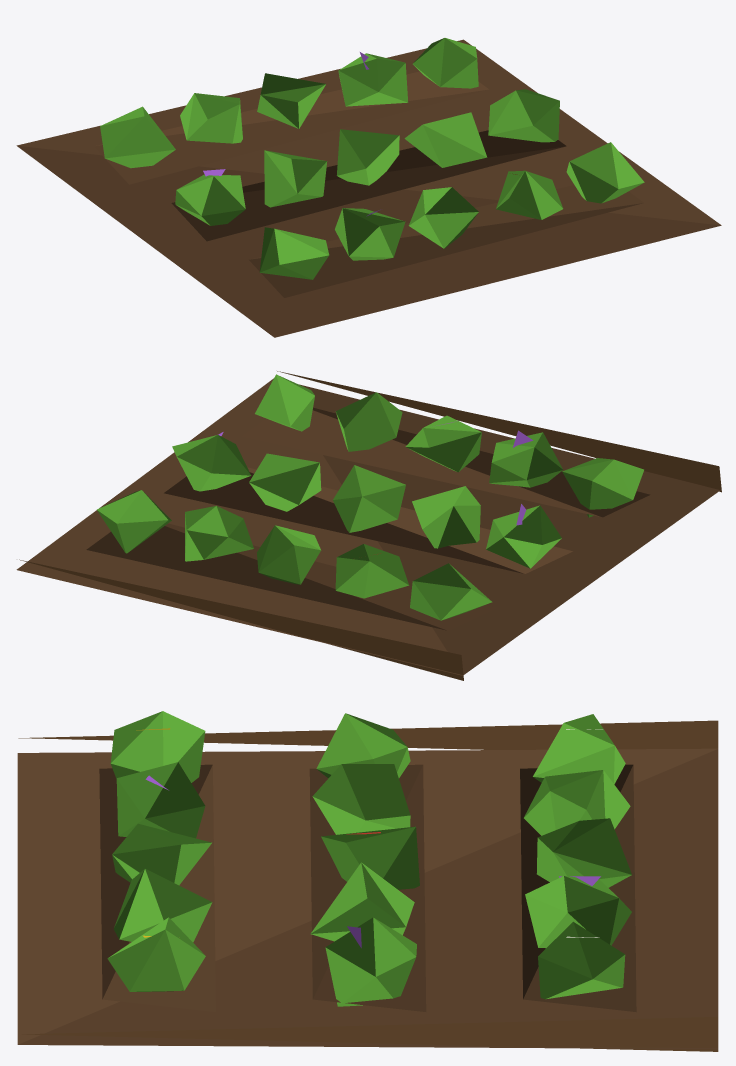
File: garden_plot_3_lod2.glb
3 views of the same model, one above another, from view 1: azimuth 30°, elevation 25°; view 2: azimuth 150°, elevation 25°; view 3: azimuth 270°, elevation 25° (orthographic). The views are drawn at different scales.
Parts seen in each view (by area): view 1: garden_plot_3_lod2; view 2: garden_plot_3_lod2; view 3: garden_plot_3_lod2.
Boxes of the visible parts, x1,y1,x2,y2 form: garden_plot_3_lod2: [16, 38, 721, 337]; garden_plot_3_lod2: [16, 371, 721, 680]; garden_plot_3_lod2: [17, 711, 718, 1051].
Bounding box in the file's own units: 4.04 × 0.5447 × 4.04.
